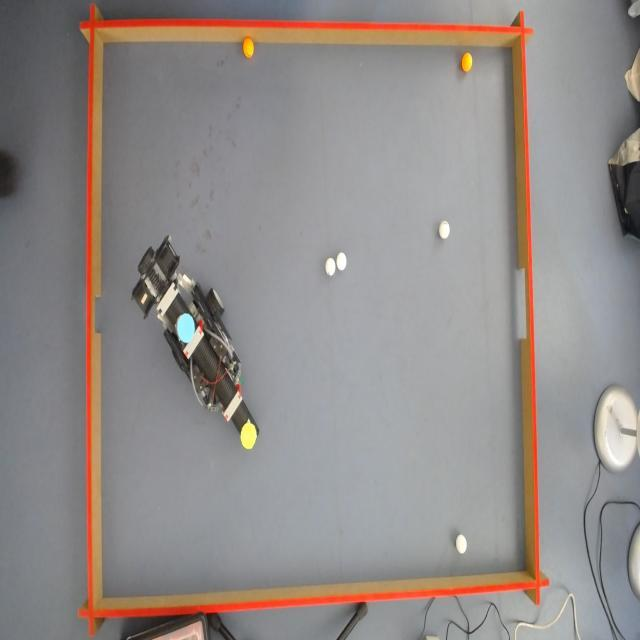orange: (460, 52, 474, 72), (242, 39, 254, 60)
robot: (133, 243, 244, 437)
robot-front: (240, 422, 256, 450)
robot-rear: (177, 313, 195, 343)
white: (454, 534, 466, 556), (323, 258, 336, 278), (440, 220, 451, 240), (337, 252, 347, 270)
